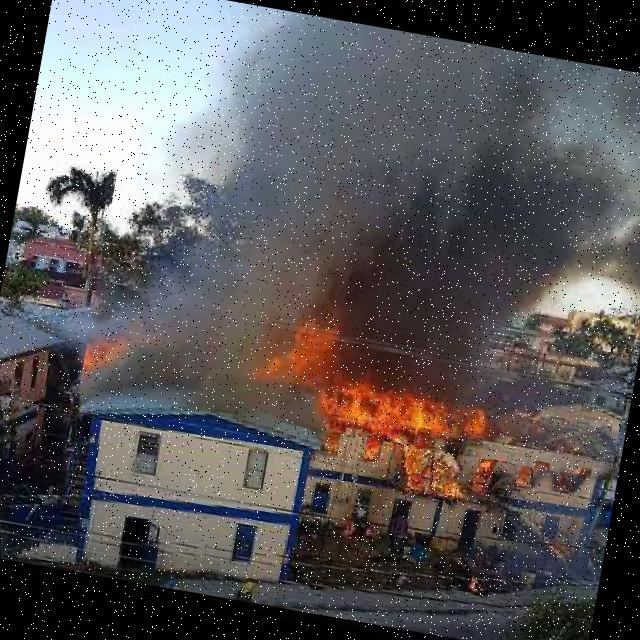fire: (79, 0, 640, 480)
